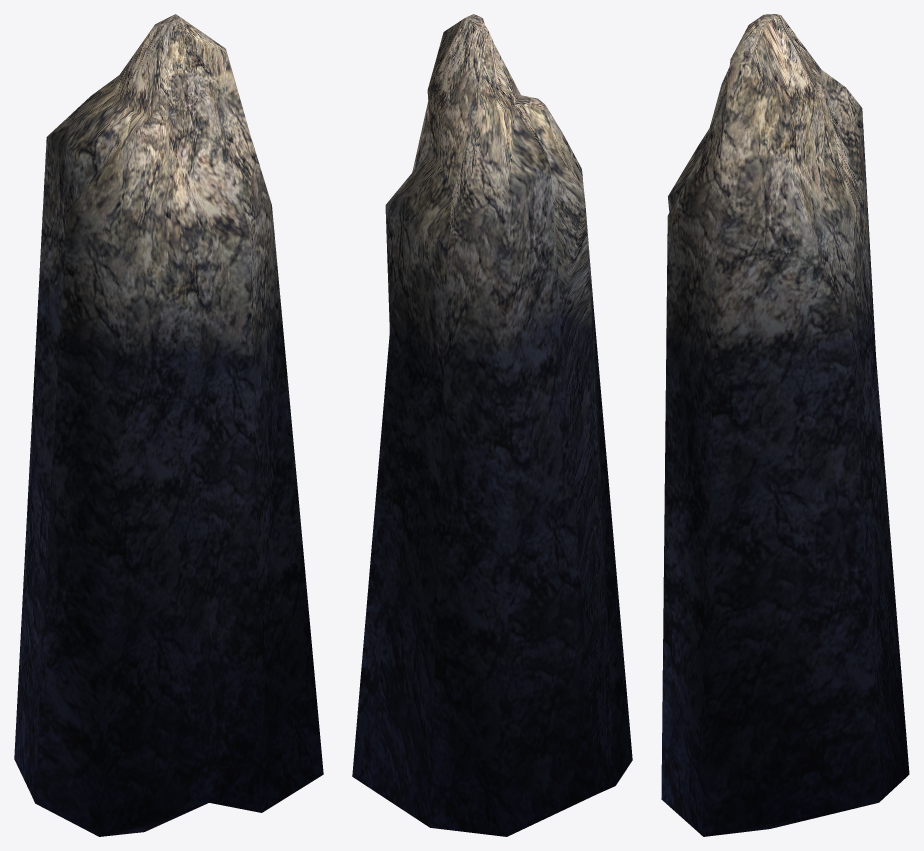
Rendered from WaterRock.gltf.
3 views of the same model, side by side, from view 1: azimuth 30°, elevation 25°; view 2: azimuth 150°, elevation 25°; view 3: azimuth 270°, elevation 25° (orthographic). The views are drawn at different scales.
Parts seen in each view (by area): view 1: WaterRock; view 2: WaterRock; view 3: WaterRock.
Boxes of the visible parts, x1=… form: WaterRock: x1=14, y1=14, x2=323, y2=836; WaterRock: x1=352, y1=14, x2=632, y2=836; WaterRock: x1=661, y1=14, x2=909, y2=836.
Bounding box in the file's own units: 2.42 × 7.3 × 2.
Materials: 1 (1 with a texture image).
